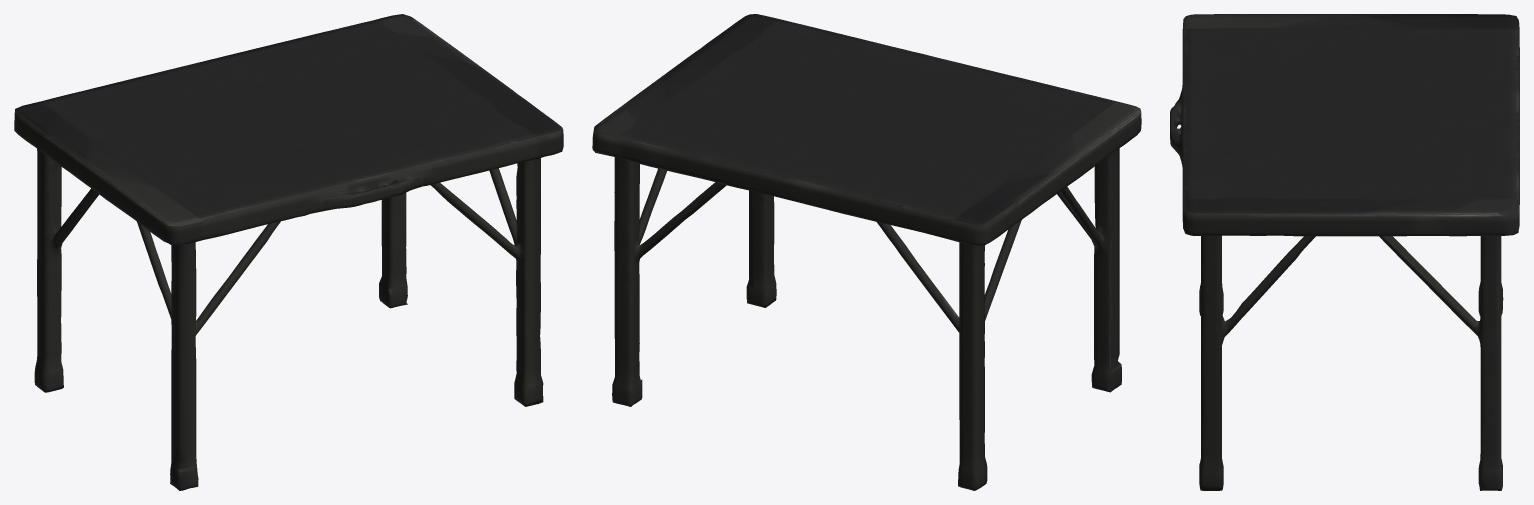
The model's file is Black_square_table.glb.
3 renders of one model, left to right at view 1: azimuth 30°, elevation 25°; view 2: azimuth 150°, elevation 25°; view 3: azimuth 270°, elevation 25°, orthographic. The views are drawn at different scales.
Size of the model in its own units: 1.91 by 1.27 by 1.41.
1 material, 1 textured.
